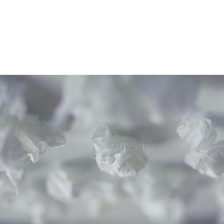tissue: (0, 106, 73, 200), (171, 107, 224, 185), (86, 125, 154, 182)
